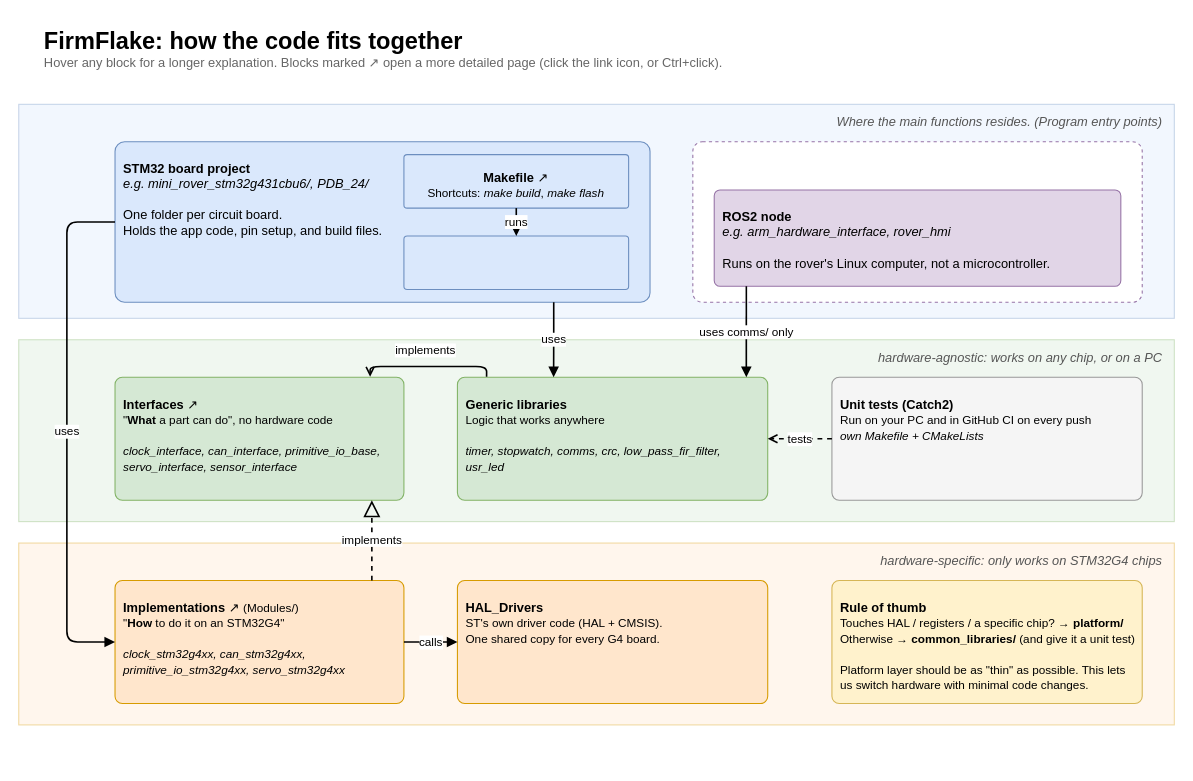
Image size: 1193x781. Some labels were removed from this diagram. Each missing label, with the box of its shape:
CMakeLists.txt ↗ Picks which files get compiled: (403, 235, 629, 289)
RoverFlake2 repo (separate repo, FirmFlake is a git submodule in it): (692, 141, 1142, 302)
① Projects: (18, 103, 1174, 318)
② common_libraries/: (18, 339, 1174, 522)
③ platform/stm32g4xx/: (18, 542, 1174, 725)
